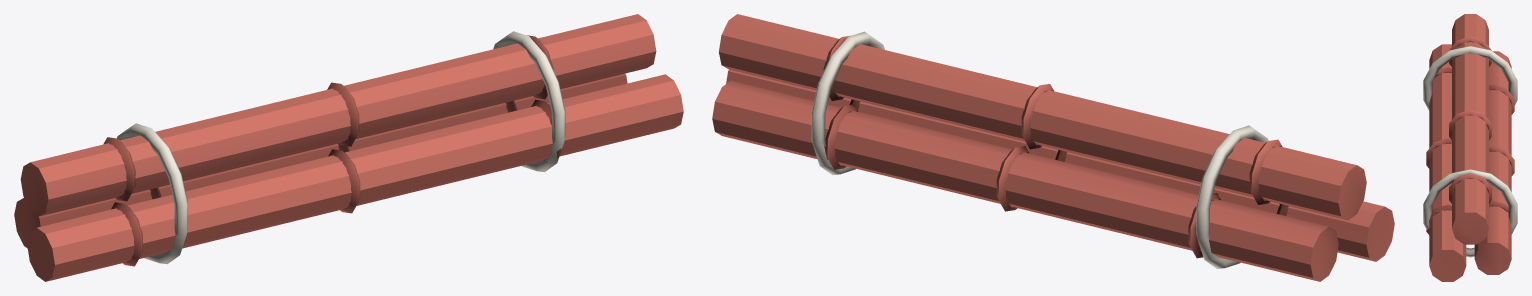
The model's file is forage_cane.glb.
3 renders of one model, left to right at view 1: azimuth 30°, elevation 25°; view 2: azimuth 150°, elevation 25°; view 3: azimuth 270°, elevation 25°, orthographic. The views are drawn at different scales.
Parts seen in each view (by area): view 1: PART; view 2: PART; view 3: PART.
Part boxes in pixels (x1=…): PART: x1=14, y1=14, x2=683, y2=281; PART: x1=712, y1=14, x2=1394, y2=281; PART: x1=1423, y1=14, x2=1517, y2=281.
Size of the model in its own units: 0.3 by 0.0597 by 0.0582.
